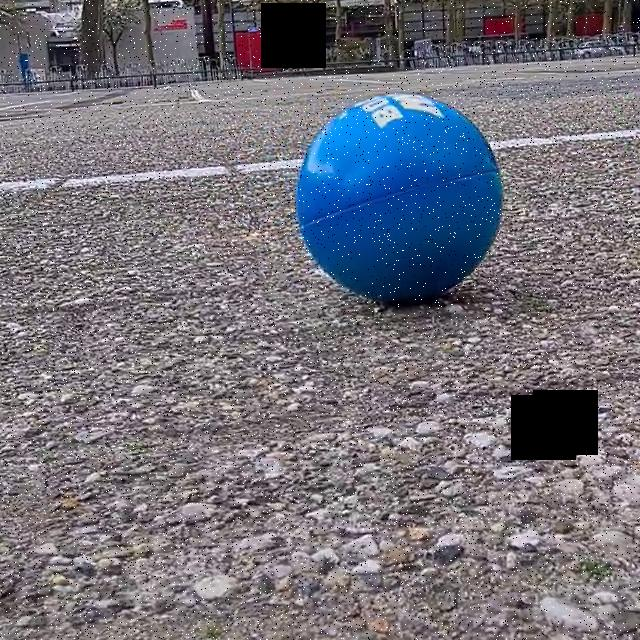ball: (292, 88, 506, 310)
